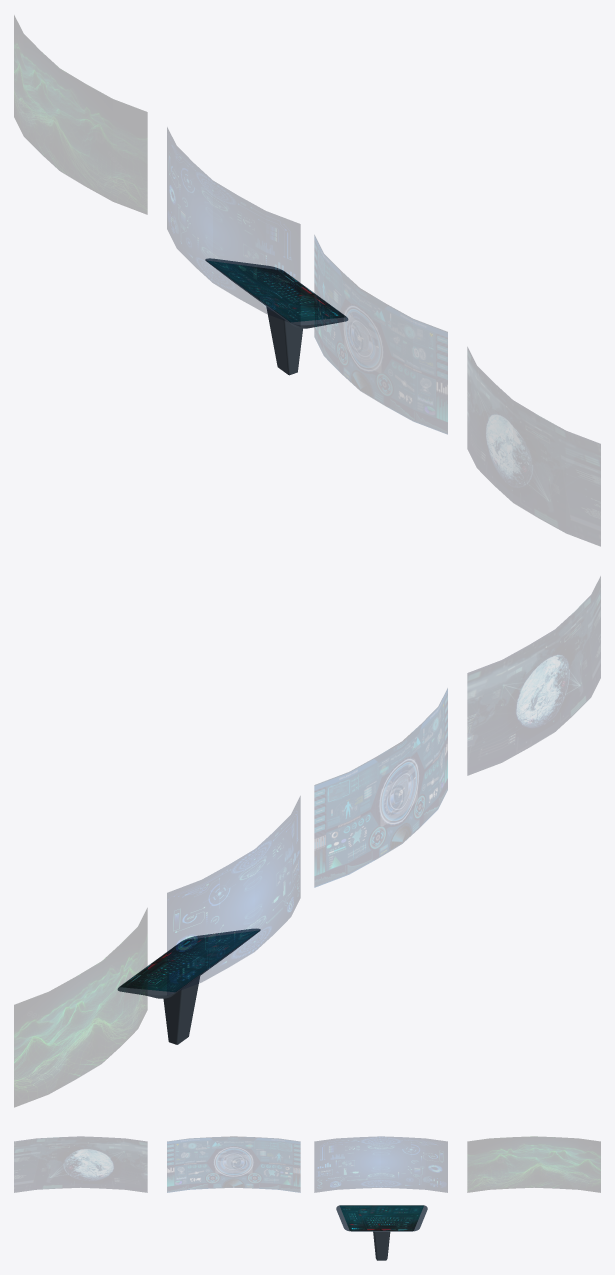
File: computador_diogo.fbx
The picture shows the model from 3 angles, top to bottom: view 1: azimuth 30°, elevation 25°; view 2: azimuth 150°, elevation 25°; view 3: azimuth 270°, elevation 25°; orthographic projection. The views are drawn at different scales.
Visible parts, largest first — view 1: Plane.002, Plane.003, Plane.001, Plane.007, Plane.006, Cube.003, Cube.004; view 2: Plane.001, Plane.007, Plane.002, Plane.003, Plane.006, Cube.003, Cube.004; view 3: Plane.007, Plane.001, Plane.002, Plane.003, Plane.006, Cube.003, Cube.004.
Boxes of the visible parts, <box> form: Plane.002: <box>467,347,600,546</box>; Plane.003: <box>314,235,447,434</box>; Plane.001: <box>14,15,147,214</box>; Plane.007: <box>167,127,300,326</box>; Plane.006: <box>206,260,346,322</box>; Cube.003: <box>266,306,302,375</box>; Cube.004: <box>205,258,348,328</box>; Plane.001: <box>14,908,147,1107</box>; Plane.007: <box>167,796,300,995</box>; Plane.002: <box>467,576,600,775</box>; Plane.003: <box>314,688,447,887</box>; Plane.006: <box>120,930,259,992</box>; Cube.003: <box>163,976,200,1044</box>; Cube.004: <box>117,928,260,998</box>; Plane.007: <box>314,1136,447,1192</box>; Plane.001: <box>467,1136,600,1192</box>; Plane.002: <box>14,1136,147,1192</box>; Plane.003: <box>167,1136,300,1192</box>; Plane.006: <box>339,1205,423,1230</box>; Cube.003: <box>373,1231,390,1260</box>; Cube.004: <box>336,1205,427,1231</box>.
Size of the model in its own units: 91.85 by 177 by 900.
